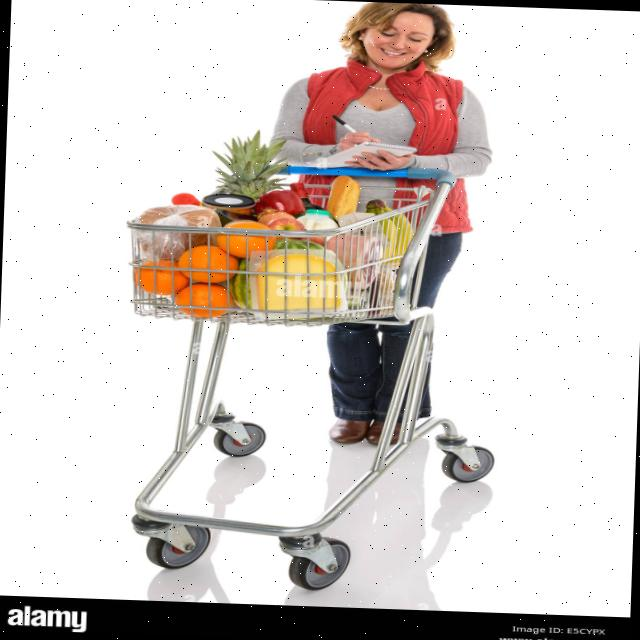Person: (261, 0, 496, 447)
